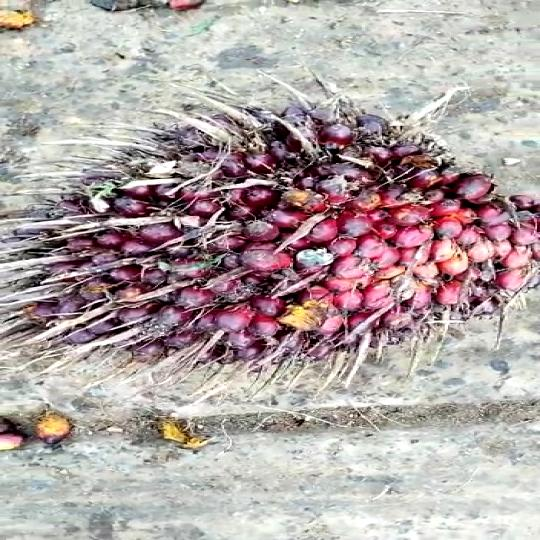masak: (0, 71, 540, 375)
